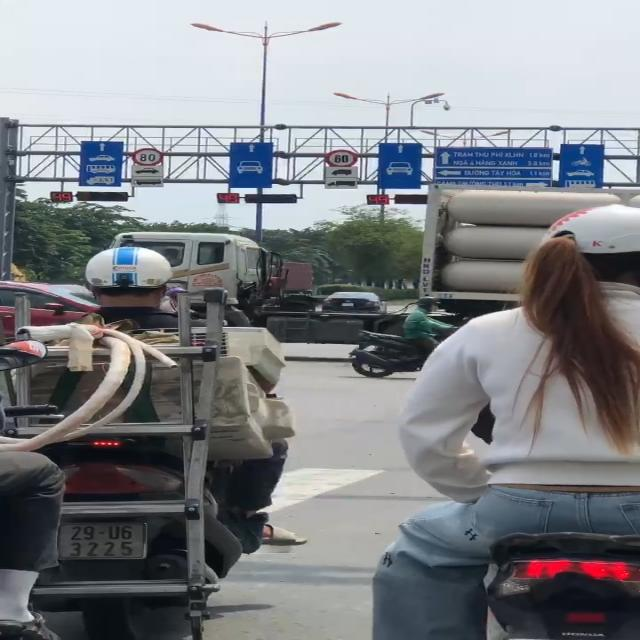Bien bao toc do toi da cho phep: (324, 146, 360, 169), (128, 146, 168, 166)
